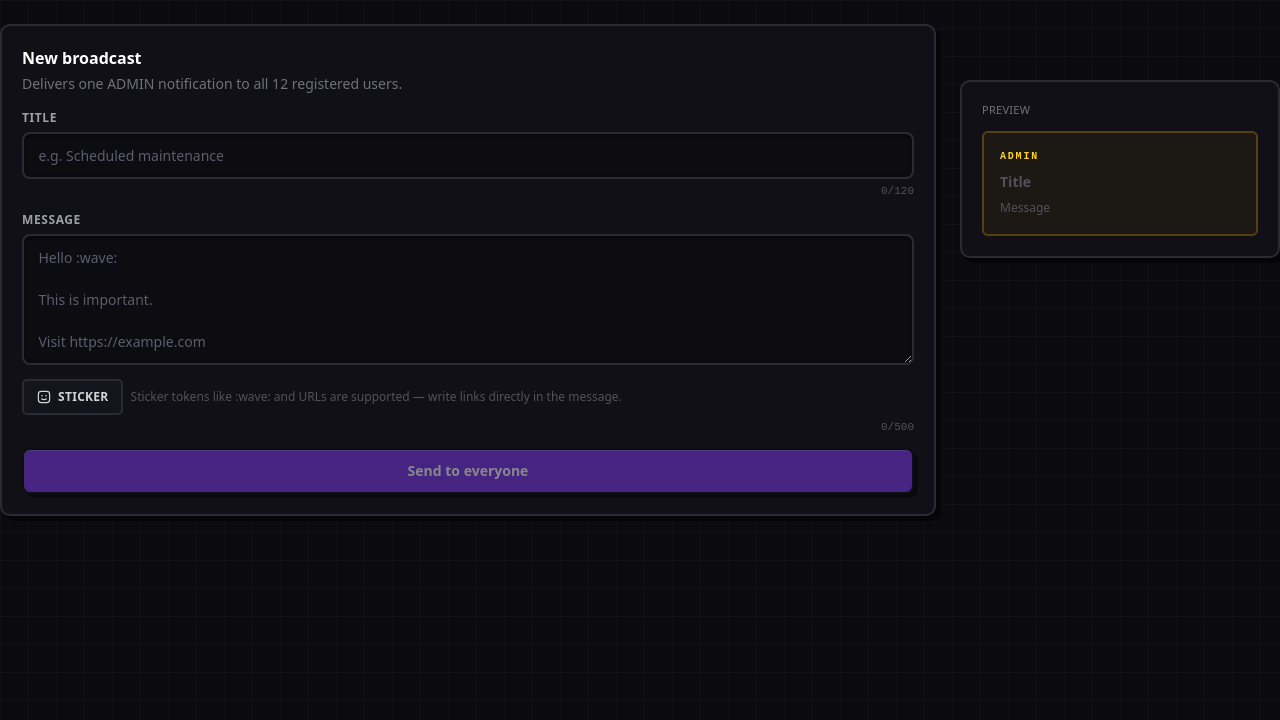
Scenario: Admin Broadcast — Sticker picker open/close › 2. opens the picker showing the existing sticker data
The width and height of the screenshot is (1280, 720).
Click the button "Sticker" at (72, 397), box [22,379,123,415]
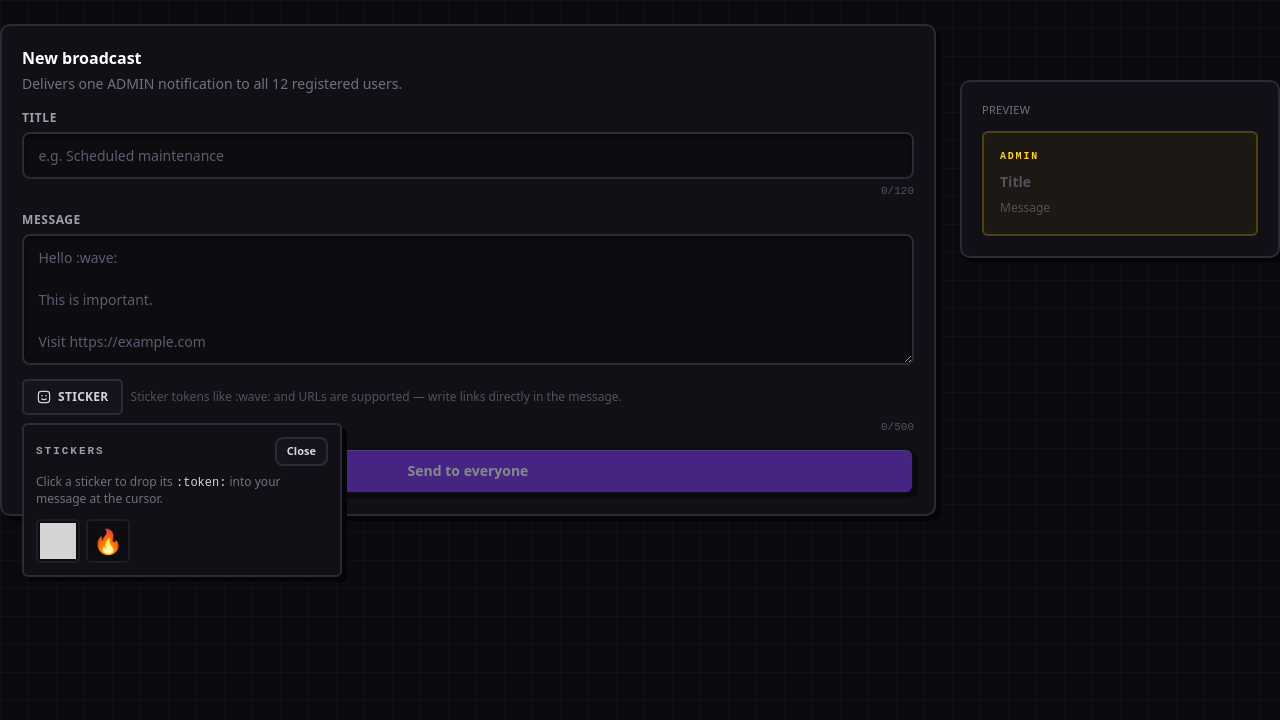
expect the dialog with id "broadcast-sticker-picker" is shown: met, box [22,423,342,577]
expect the button "🔥" is shown: met, box [86,519,130,563]
